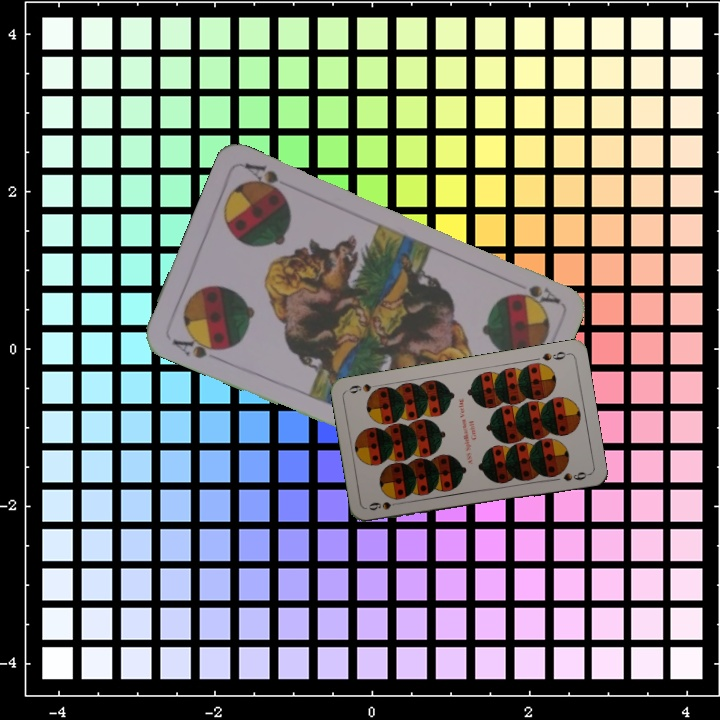S9: (538, 348, 571, 363), (365, 498, 396, 513)
SA: (168, 331, 227, 361), (513, 281, 562, 306)
